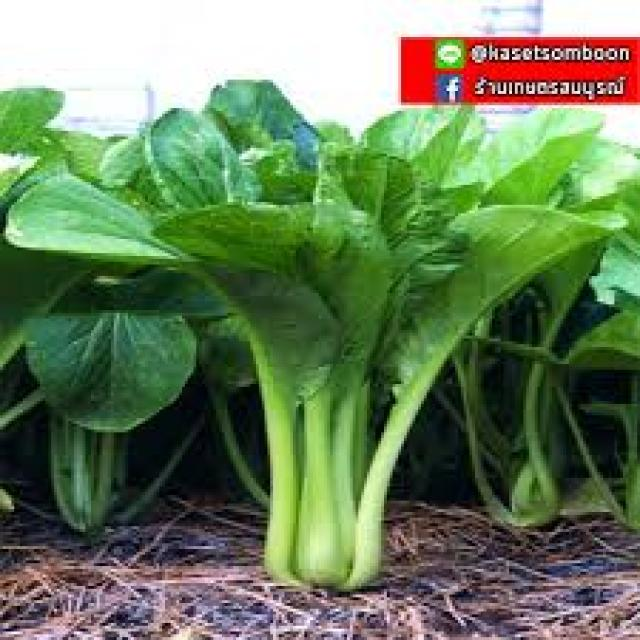bokchoy: (106, 103, 570, 598)
